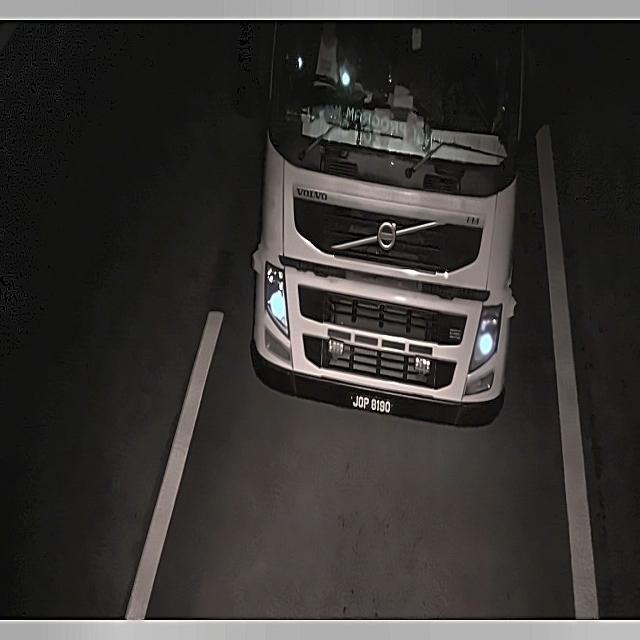car: (346, 380, 400, 424)
